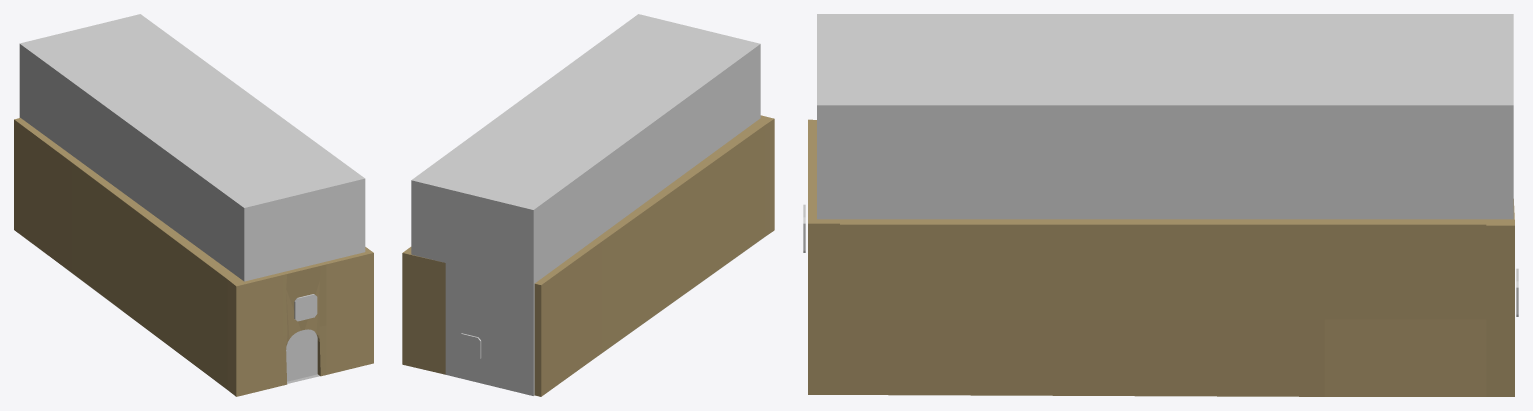
File: carmine2.glb
3 renders of one model, left to right at view 1: azimuth 30°, elevation 25°; view 2: azimuth 150°, elevation 25°; view 3: azimuth 270°, elevation 25°, orthographic. The views are drawn at different scales.
Visible parts, largest first — view 1: Placeholder, PareteL, PareteB, PareteT, 1; view 2: Placeholder, PareteL, PareteT, PareteB, 14; view 3: Placeholder, PareteR, PareteB, PareteT.
Boxes of the visible parts, x1,y1,x2,y2 form: Placeholder: [19, 14, 365, 381]; PareteL: [21, 123, 235, 388]; PareteB: [226, 247, 373, 396]; PareteT: [14, 118, 27, 235]; 1: [294, 294, 317, 321]; Placeholder: [411, 14, 760, 395]; PareteL: [543, 124, 763, 390]; PareteT: [402, 247, 548, 396]; PareteB: [753, 115, 774, 237]; 14: [458, 333, 481, 360]; Placeholder: [817, 14, 1513, 219]; PareteR: [840, 219, 1486, 396]; PareteB: [808, 119, 839, 394]; PareteT: [1486, 199, 1514, 396].
Size of the model in its own units: 12.73 by 16 by 36.37.
